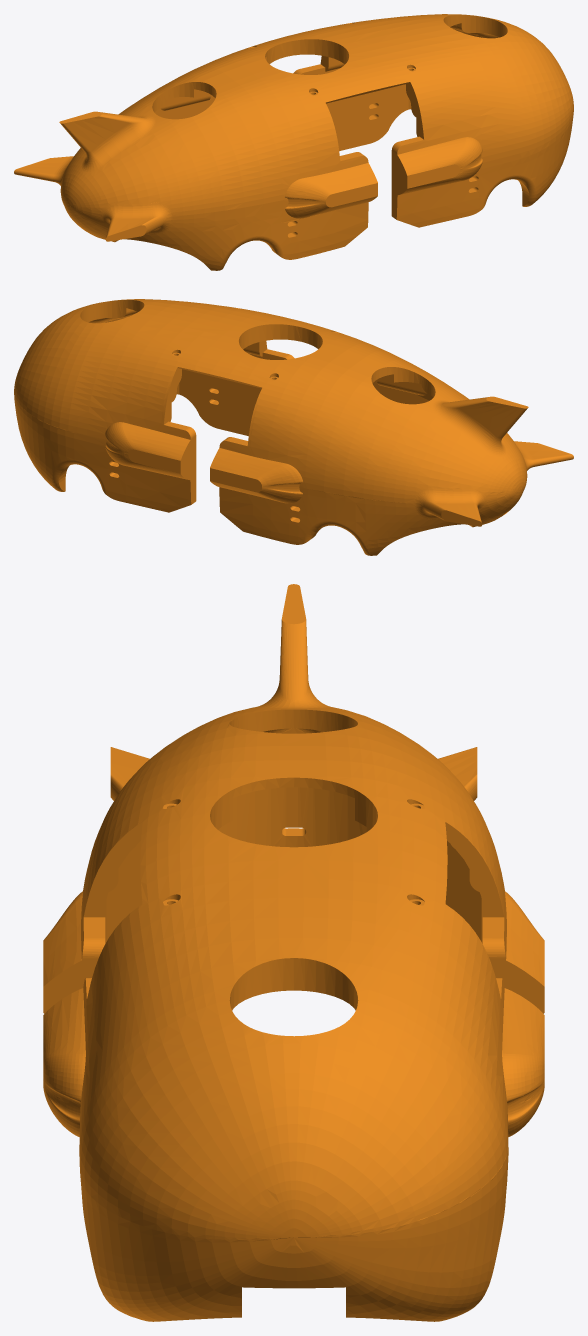
File: buoyancy_shell_colored.dae
3 views of the same model, one above another, from view 1: azimuth 30°, elevation 25°; view 2: azimuth 150°, elevation 25°; view 3: azimuth 270°, elevation 25° (orthographic). The views are drawn at different scales.
Visible parts, largest first — view 1: buoyancy_shell; view 2: buoyancy_shell; view 3: buoyancy_shell.
Boxes of the visible parts, left/top/right/bottom form: buoyancy_shell: left=14, top=14, right=573, bottom=270; buoyancy_shell: left=14, top=299, right=573, bottom=555; buoyancy_shell: left=43, top=584, right=544, bottom=1321.
Size of the model in its own units: 0.3771 by 0.164 by 0.1192.
Materials: 1 (1 with a texture image).
